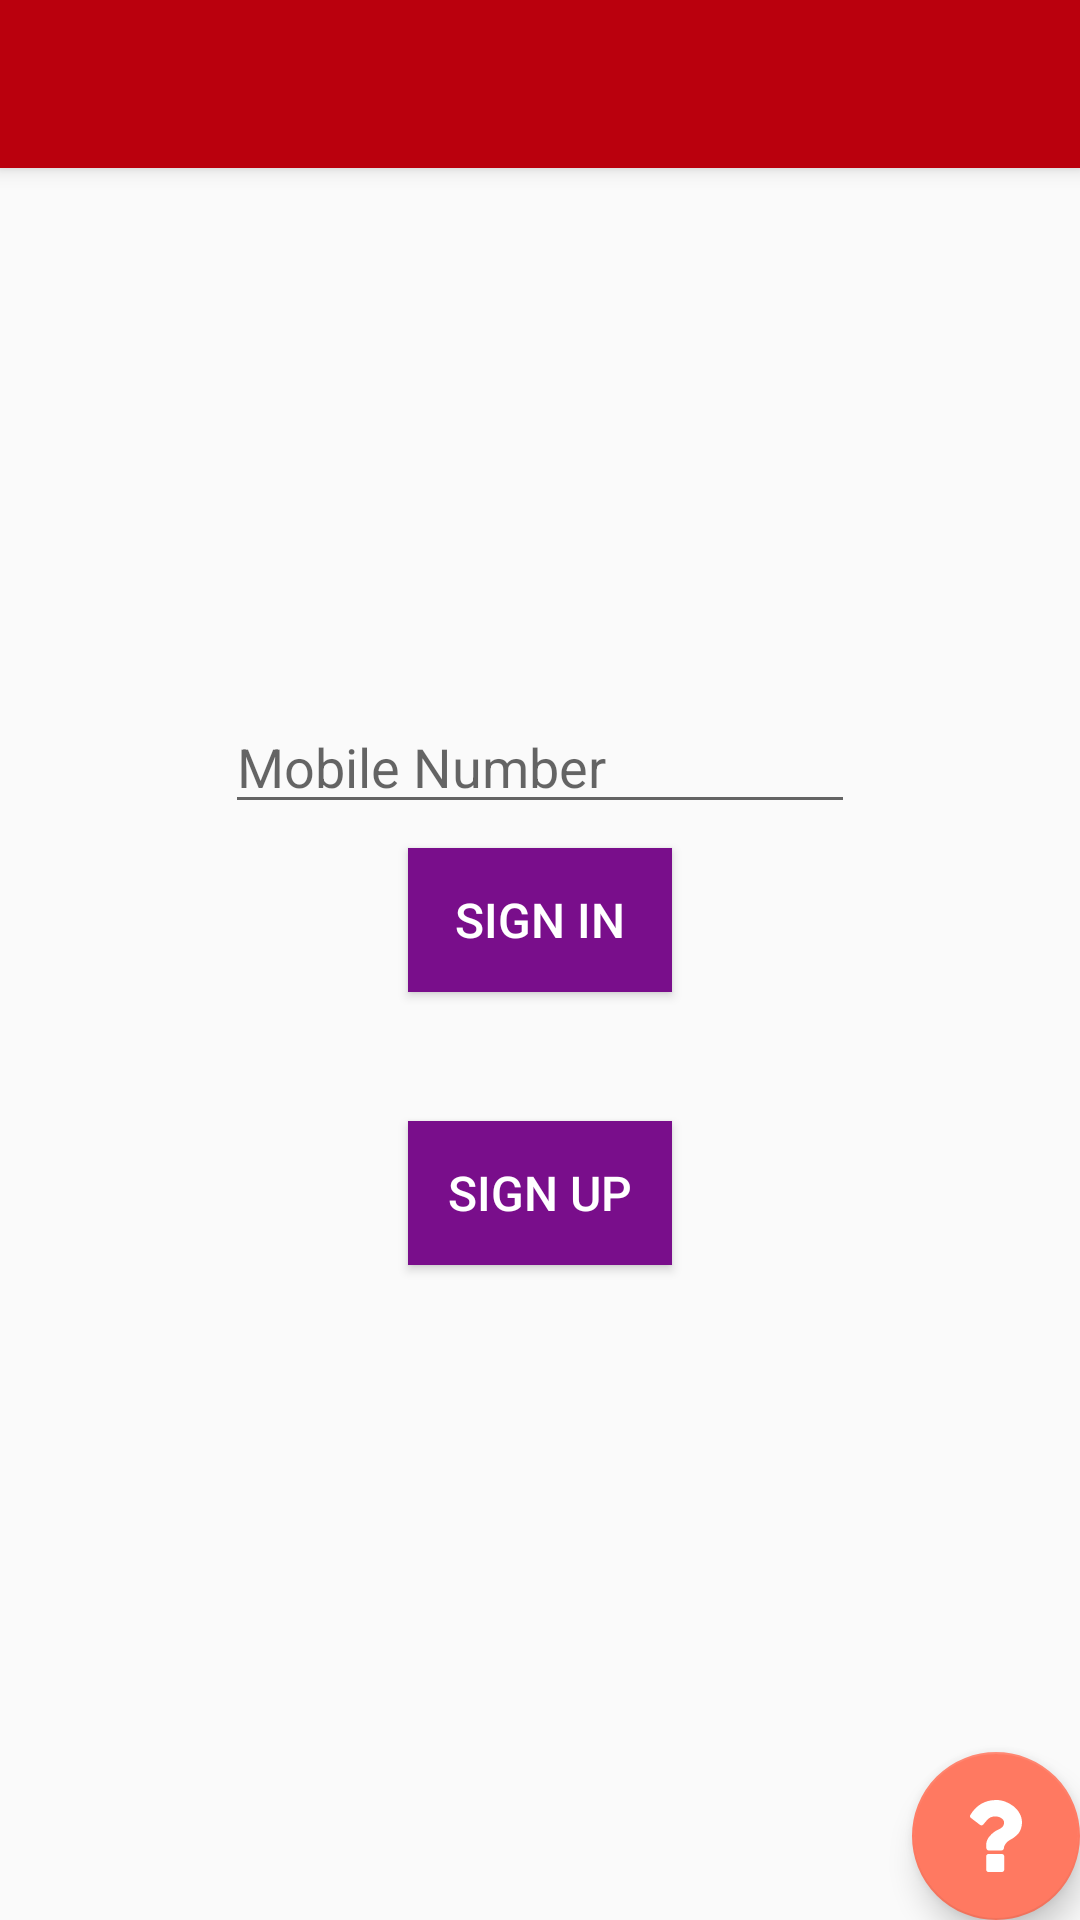

Icon bounding boxes for this 1080*1920 phone screenshot, format (x1, y1, x2, y2):
question sign: (912, 1752, 1080, 1920)
